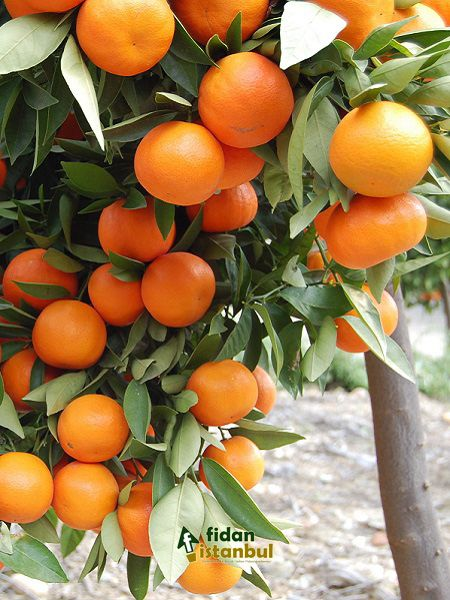portakal: (324, 87, 441, 202), (190, 47, 322, 144), (327, 282, 439, 376), (170, 519, 270, 600), (165, 343, 259, 428), (35, 293, 125, 380), (50, 389, 133, 462), (54, 465, 115, 547)
